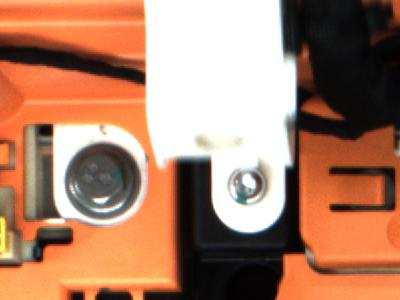nut_b: (62, 143, 144, 221)
